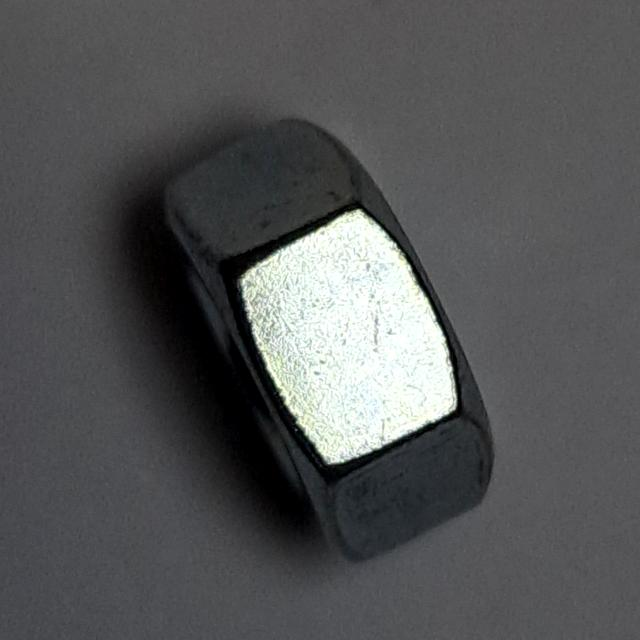Side_Excellent: (143, 104, 510, 573)
